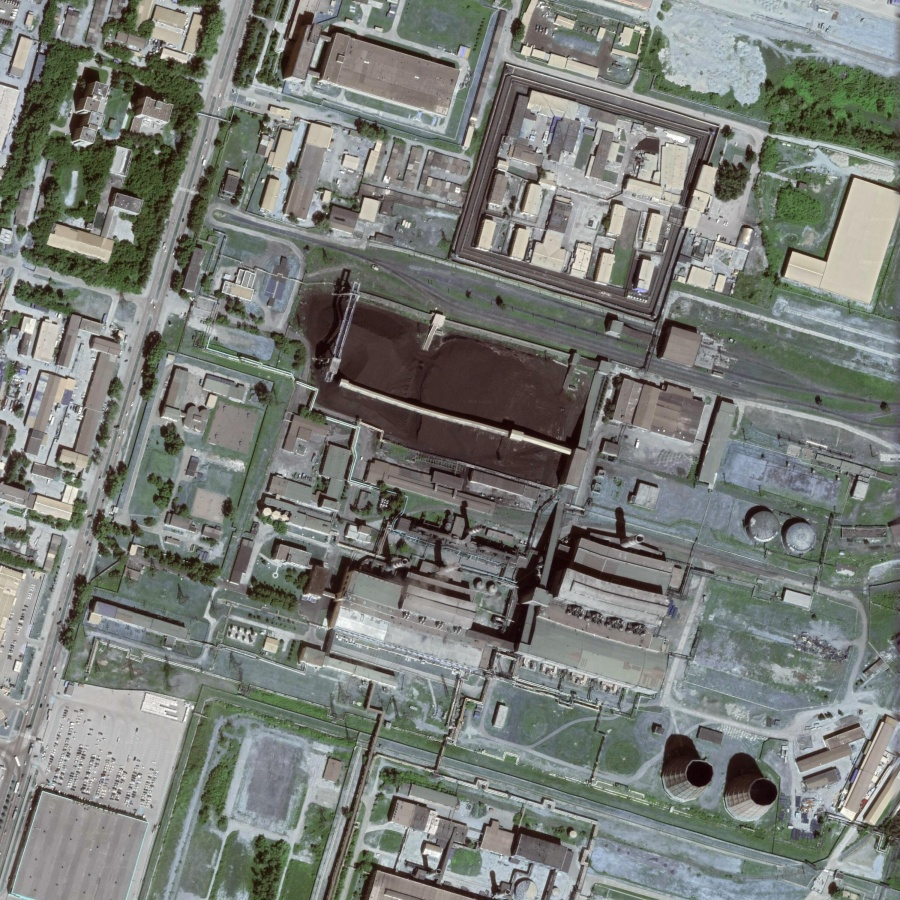PowerPlant: (280, 265, 838, 834)
